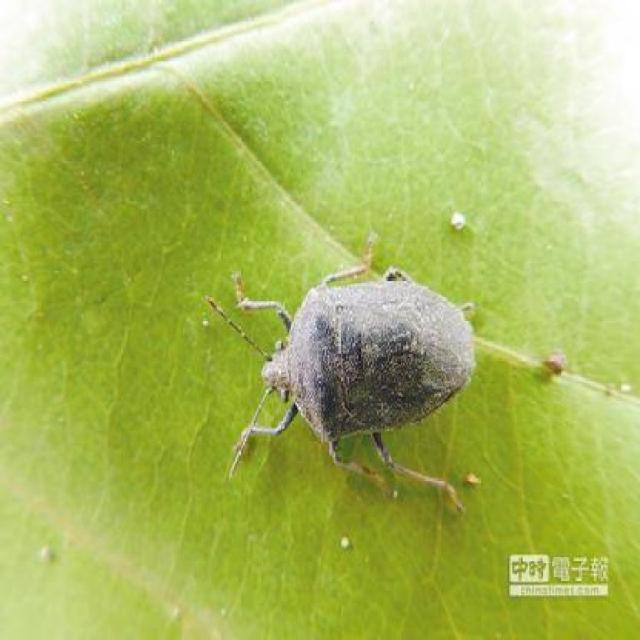rice-bug: (217, 235, 481, 502)
